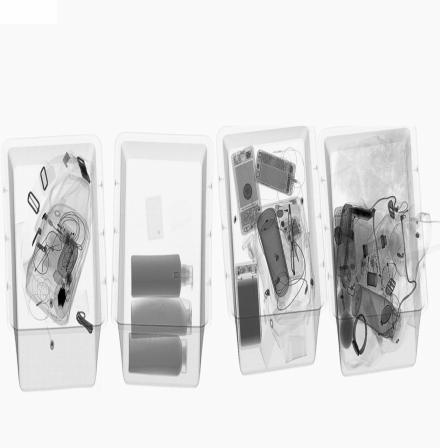Lighter: (275, 204, 302, 214)
